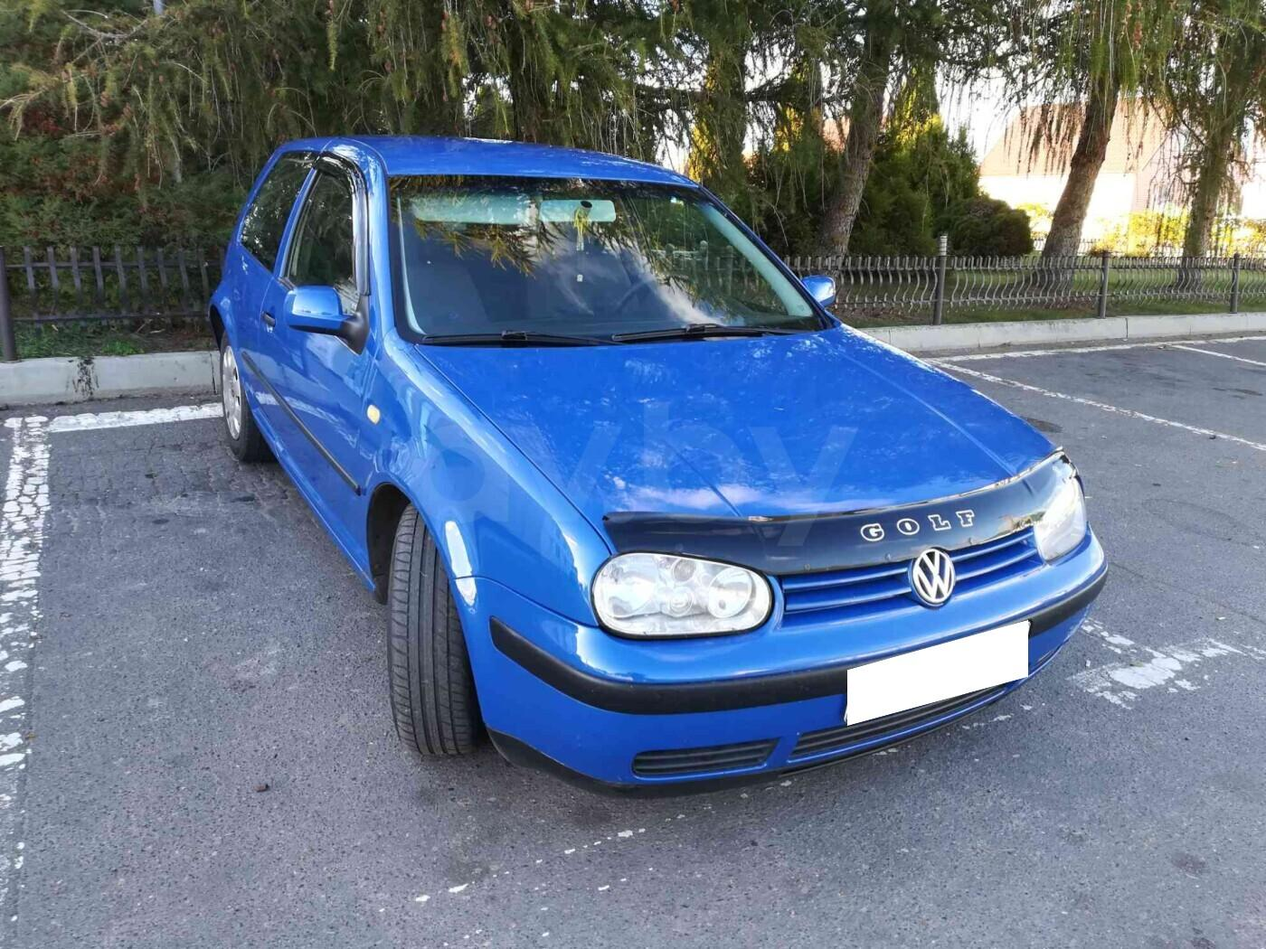Golf_1997-2006: (204, 125, 1126, 789)
